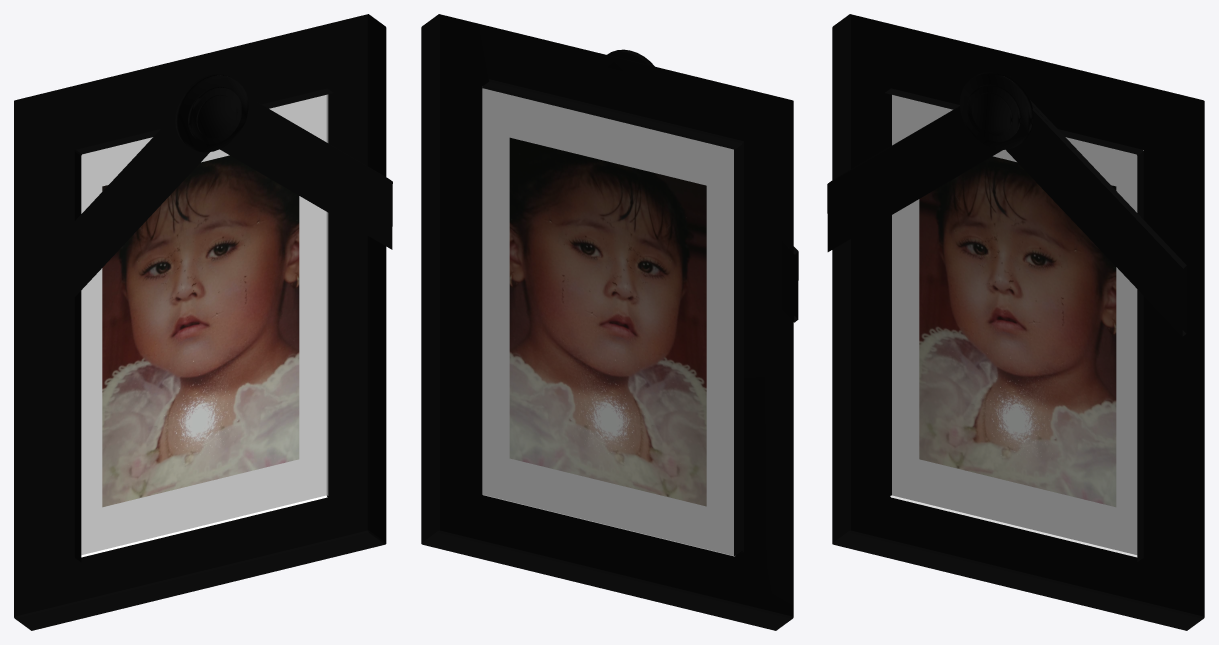
The model's file is z1_fotografia.obj.
3 renders of one model, left to right at view 1: azimuth 30°, elevation 25°; view 2: azimuth 150°, elevation 25°; view 3: azimuth 330°, elevation 25°, orthographic.
Visible parts, largest first — view 1: Cube; view 2: Cube; view 3: Cube.
Boxes of the visible parts, x1,y1,x2,y2 form: Cube: (14,14,392,630); Cube: (421,14,798,630); Cube: (827,14,1204,630).
Size of the model in its own units: 0.3025 by 0.42 by 0.0463.
Materials: 4 (4 with a texture image).
